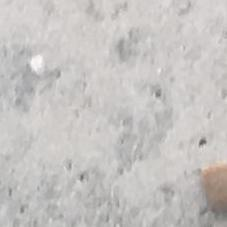Corrosion: (200, 163, 227, 214)
